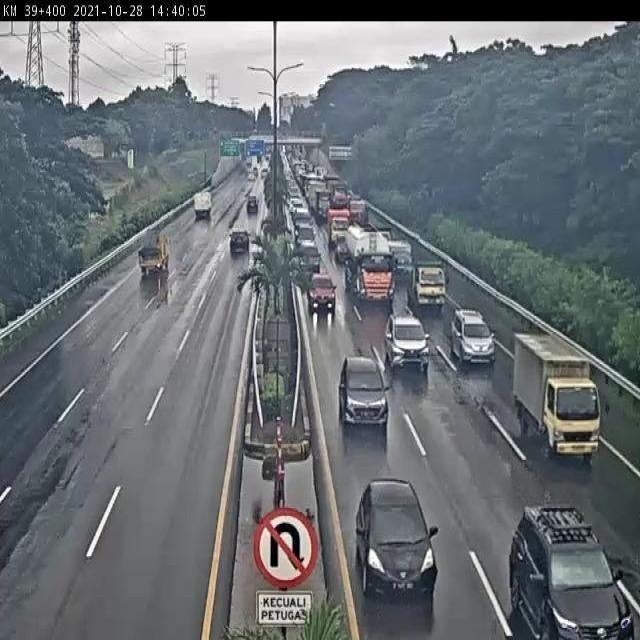big truck: (345, 224, 395, 304)
car: (507, 508, 634, 637), (356, 479, 436, 600), (338, 355, 390, 428), (451, 308, 494, 360), (386, 314, 429, 366), (308, 274, 337, 310), (298, 241, 321, 271), (227, 225, 253, 251)
mid truck: (242, 198, 259, 218)
small truck: (513, 335, 601, 461), (406, 260, 447, 311), (137, 234, 171, 274), (386, 232, 411, 273)
